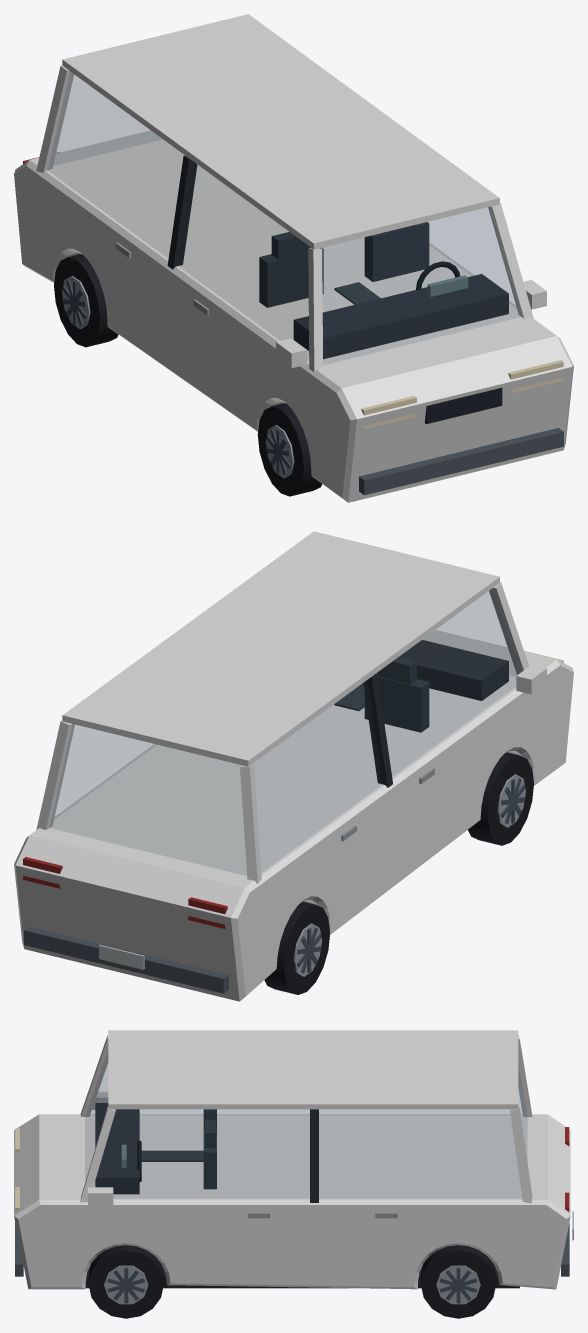
The picture shows the model from 3 angles, top to bottom: view 1: azimuth 30°, elevation 25°; view 2: azimuth 150°, elevation 25°; view 3: azimuth 270°, elevation 25°; orthographic projection. The views are drawn at different scales.
Visible parts, largest first — view 1: body, windows, wheel-mesh (×2); view 2: body, windows, wheel-mesh (×2); view 3: body, windows, wheel-mesh (×2).
Boxes of the visible parts, x1=… form: body: x1=14, y1=14, x2=573, y2=502; windows: x1=48, y1=72, x2=520, y2=364; wheel-mesh (×2): x1=54, y1=254, x2=322, y2=496; body: x1=14, y1=531, x2=573, y2=1001; windows: x1=50, y1=590, x2=519, y2=875; wheel-mesh (×2): x1=264, y1=752, x2=533, y2=994; body: x1=14, y1=1030, x2=573, y2=1289; windows: x1=85, y1=1053, x2=526, y2=1197; wheel-mesh (×2): x1=88, y1=1245, x2=496, y2=1318.
Bounding box in the file's own units: 2.17 × 2.05 × 5.06.
